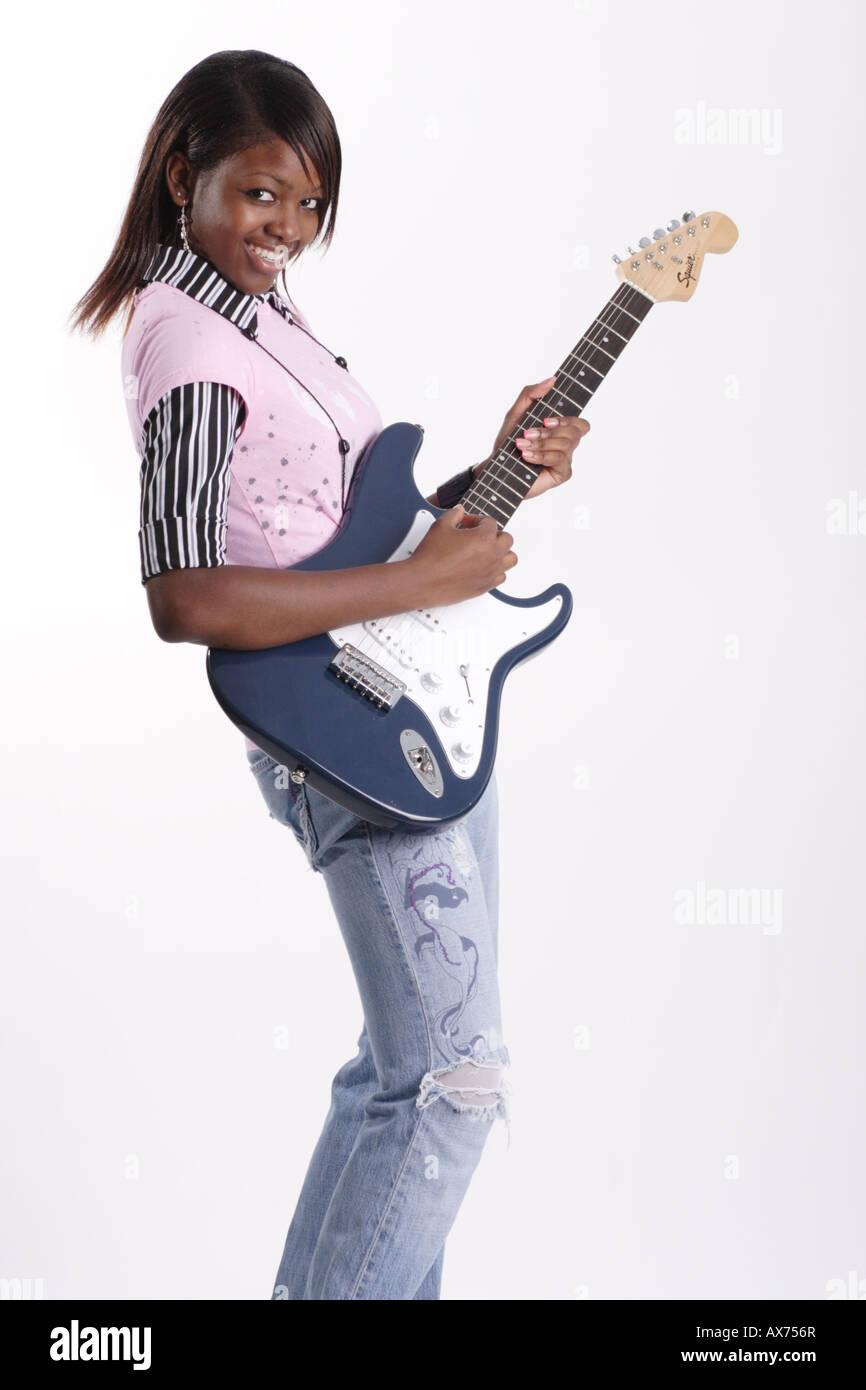acousticguitar: (209, 199, 742, 849)
